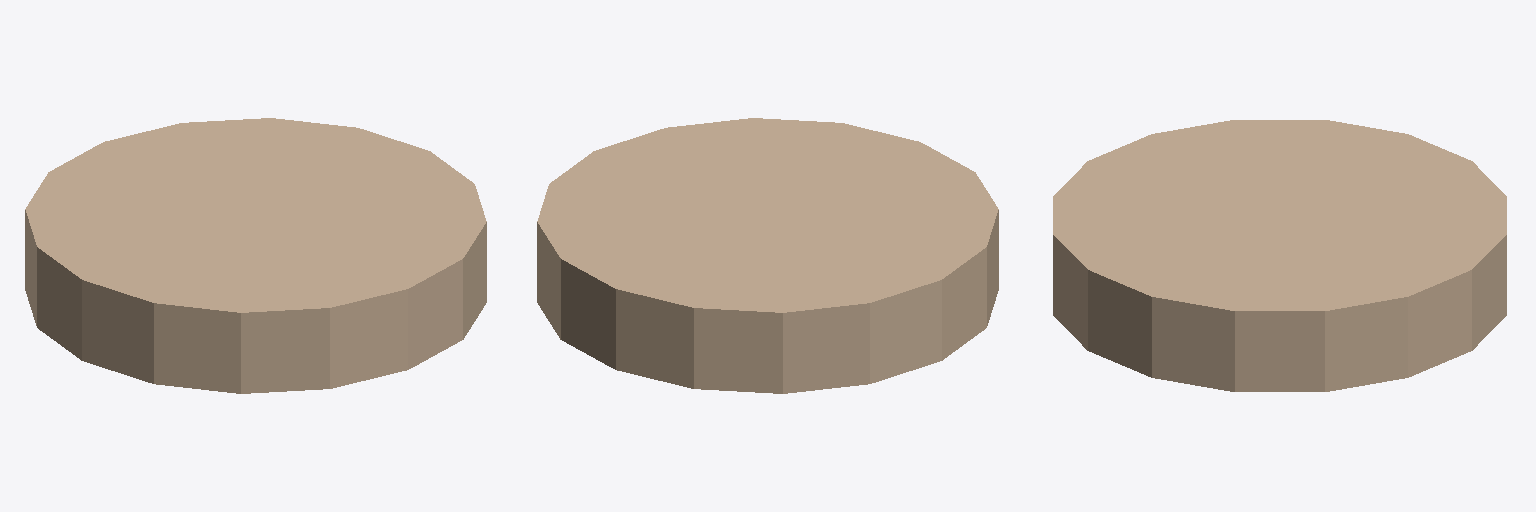
File: Knight_ReactionWheel_A_Collider.obj
3 views of the same model, side by side, from view 1: azimuth 30°, elevation 25°; view 2: azimuth 150°, elevation 25°; view 3: azimuth 270°, elevation 25° (orthographic).
Visible parts, largest first — view 1: Knight_ReactionWheel_A_Collider; view 2: Knight_ReactionWheel_A_Collider; view 3: Knight_ReactionWheel_A_Collider.
Boxes of the visible parts, x1,y1,x2,y2 form: Knight_ReactionWheel_A_Collider: [25, 118, 486, 393]; Knight_ReactionWheel_A_Collider: [537, 118, 998, 393]; Knight_ReactionWheel_A_Collider: [1053, 120, 1506, 391].
Bounding box in the file's own units: 0.9375 × 0.185 × 0.9375.